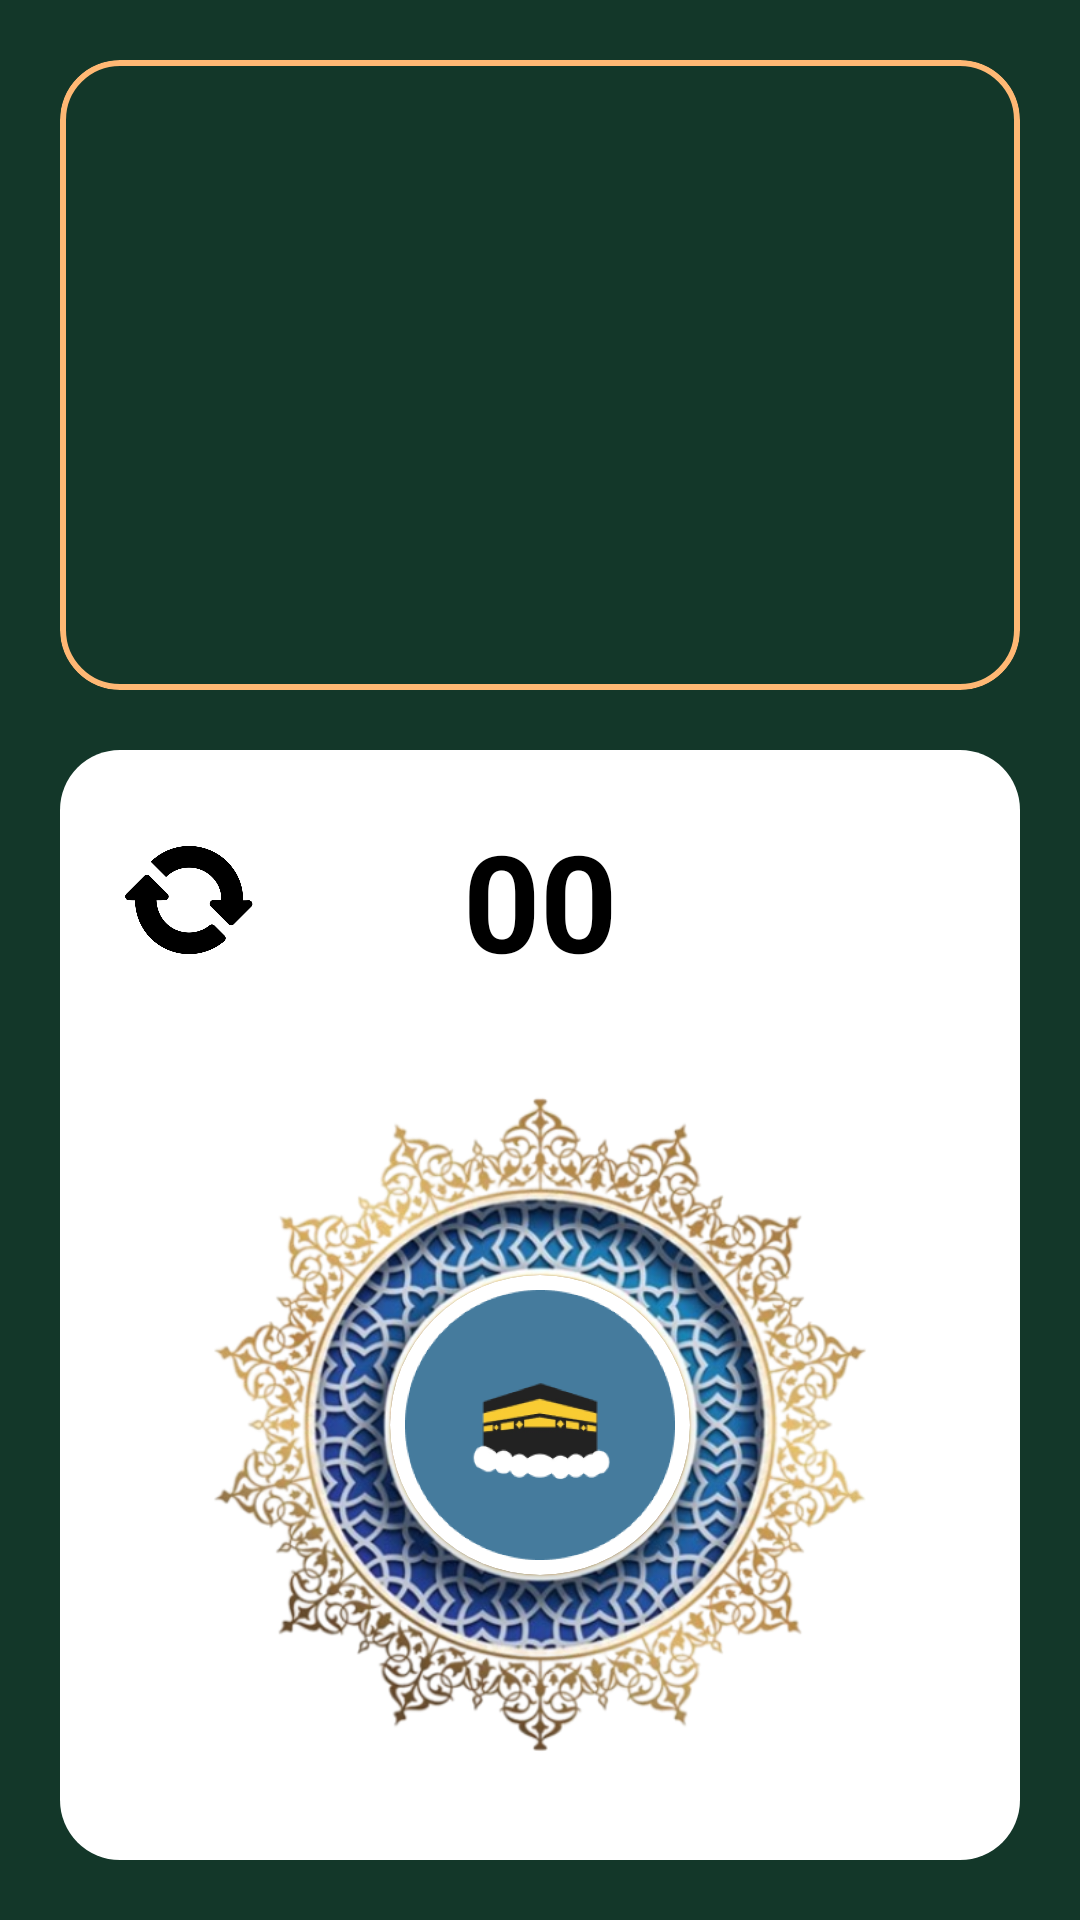

Screen size 1080px x 1920px. Icon name, then its center in pixels as (x=x, y=y):
kaba: (x=540, y=1425)
